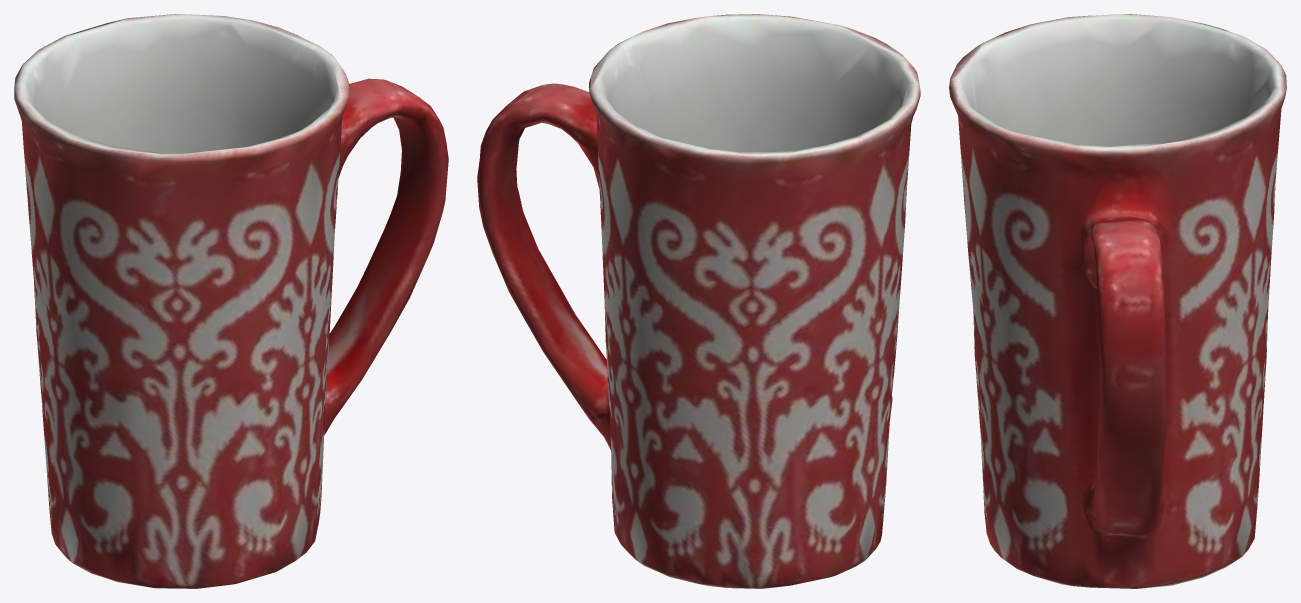
Rendered from mug-2.glb.
The picture shows the model from 3 angles, left to right: view 1: azimuth 30°, elevation 25°; view 2: azimuth 150°, elevation 25°; view 3: azimuth 270°, elevation 25°; orthographic projection.
Parts seen in each view (by area): view 1: ACE_Coffee_Mug_Kristen_16_oz_cup; view 2: ACE_Coffee_Mug_Kristen_16_oz_cup; view 3: ACE_Coffee_Mug_Kristen_16_oz_cup.
Part boxes in pixels (box(x1,y1,x2,y2)): ACE_Coffee_Mug_Kristen_16_oz_cup: box(14, 14, 448, 588); ACE_Coffee_Mug_Kristen_16_oz_cup: box(477, 14, 920, 588); ACE_Coffee_Mug_Kristen_16_oz_cup: box(949, 14, 1286, 588).
Size of the model in its own units: 0.1263 by 0.1348 by 0.0903.
1 material, 1 textured.
